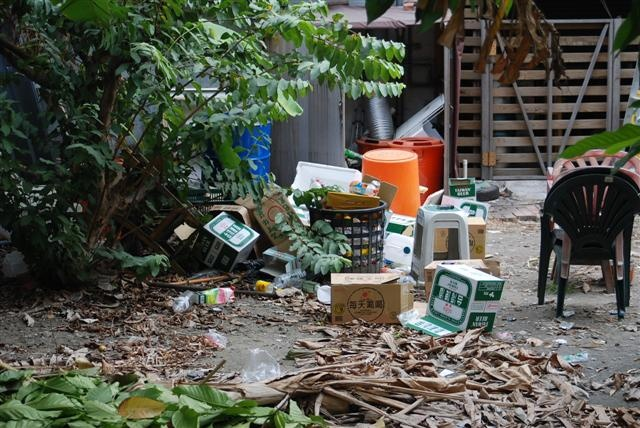bottle: (171, 289, 197, 315), (348, 179, 379, 197), (277, 267, 308, 285)
box: (424, 264, 504, 342), (234, 180, 307, 246), (189, 210, 261, 275), (329, 271, 415, 325), (447, 175, 477, 202)
bucket: (360, 146, 421, 217)
